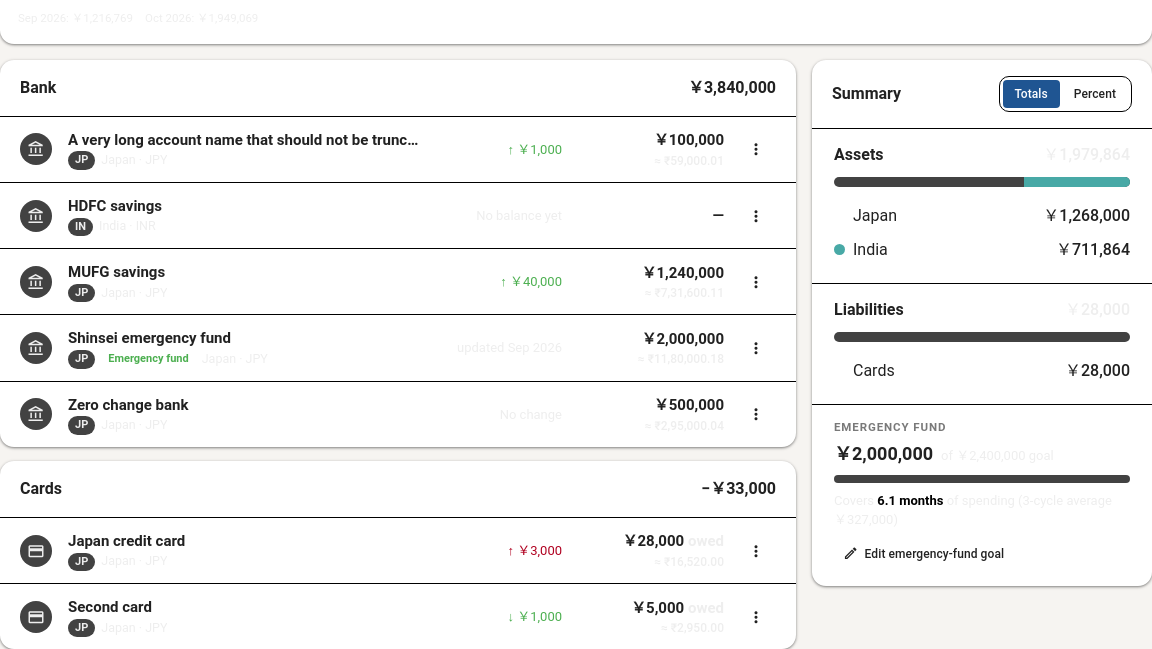
Test: AccountsPage emergency-fund goal dialog › rejects a negative goal with a field error, instead of silently doing nothing
(page scrolled)
Click the button "Edit emergency-fund goal" at point(925, 554), box [834,540,1016,568]
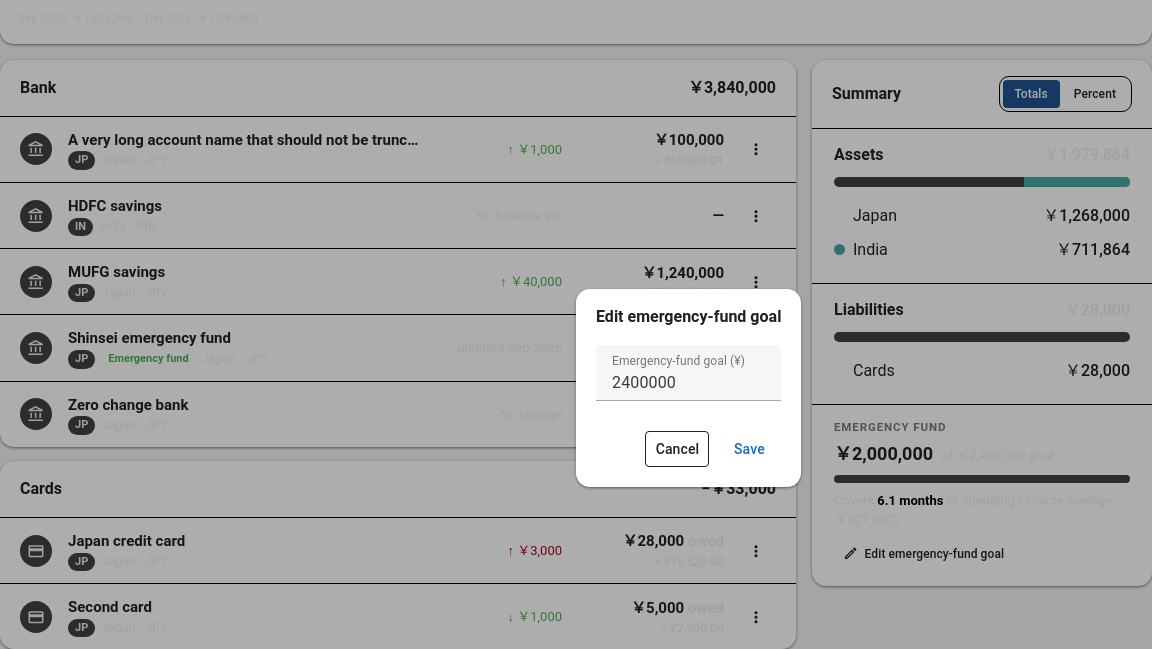
Replace the text in the field with id "ef-goal" with "-100" at point(689, 373), box [596,345,781,401]
(page scrolled)
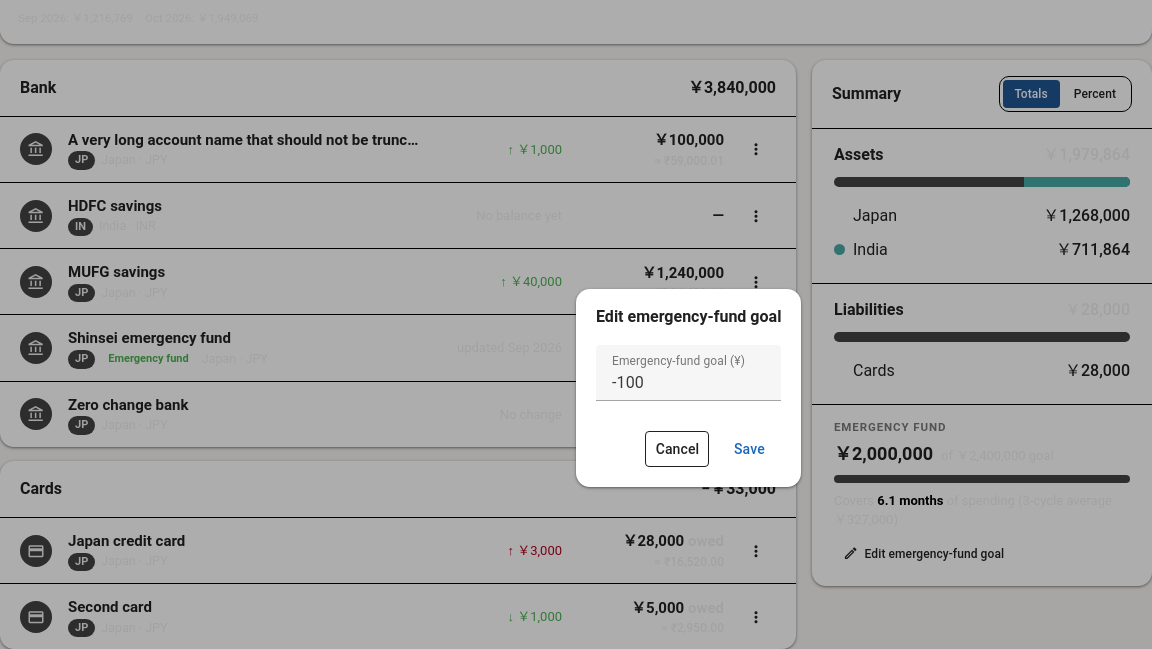
Click the button "Save" at point(749, 449), box [717,431,781,467]
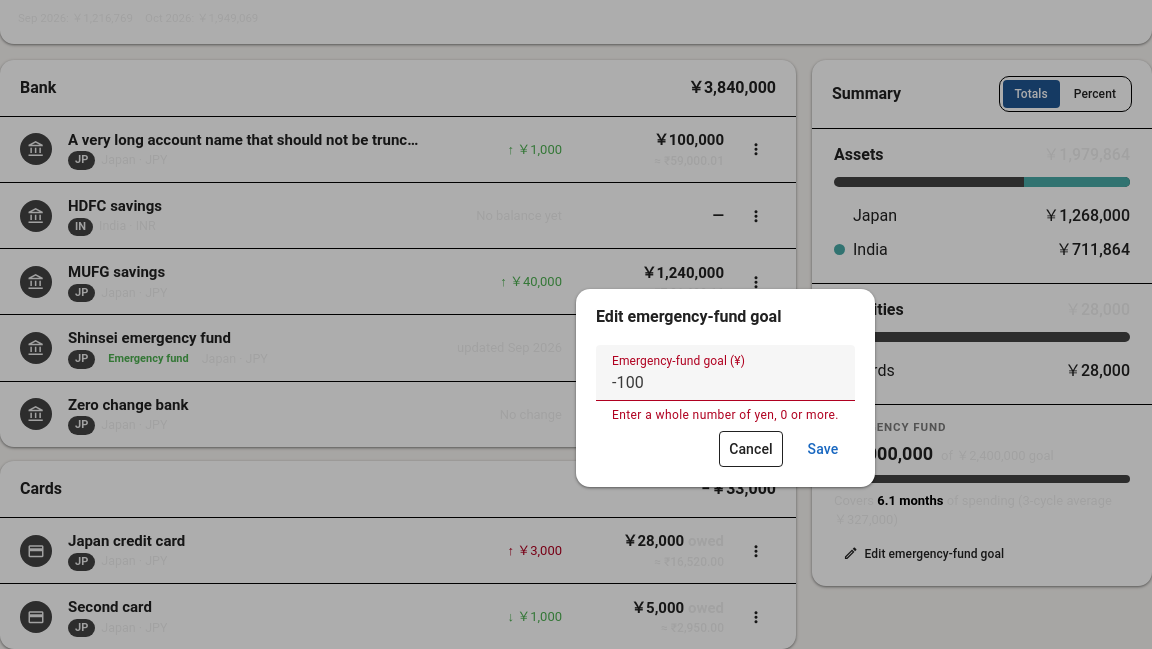
Now the text "Enter a whole number of yen, 0 or more." is shown, box [612,409,839,421]
